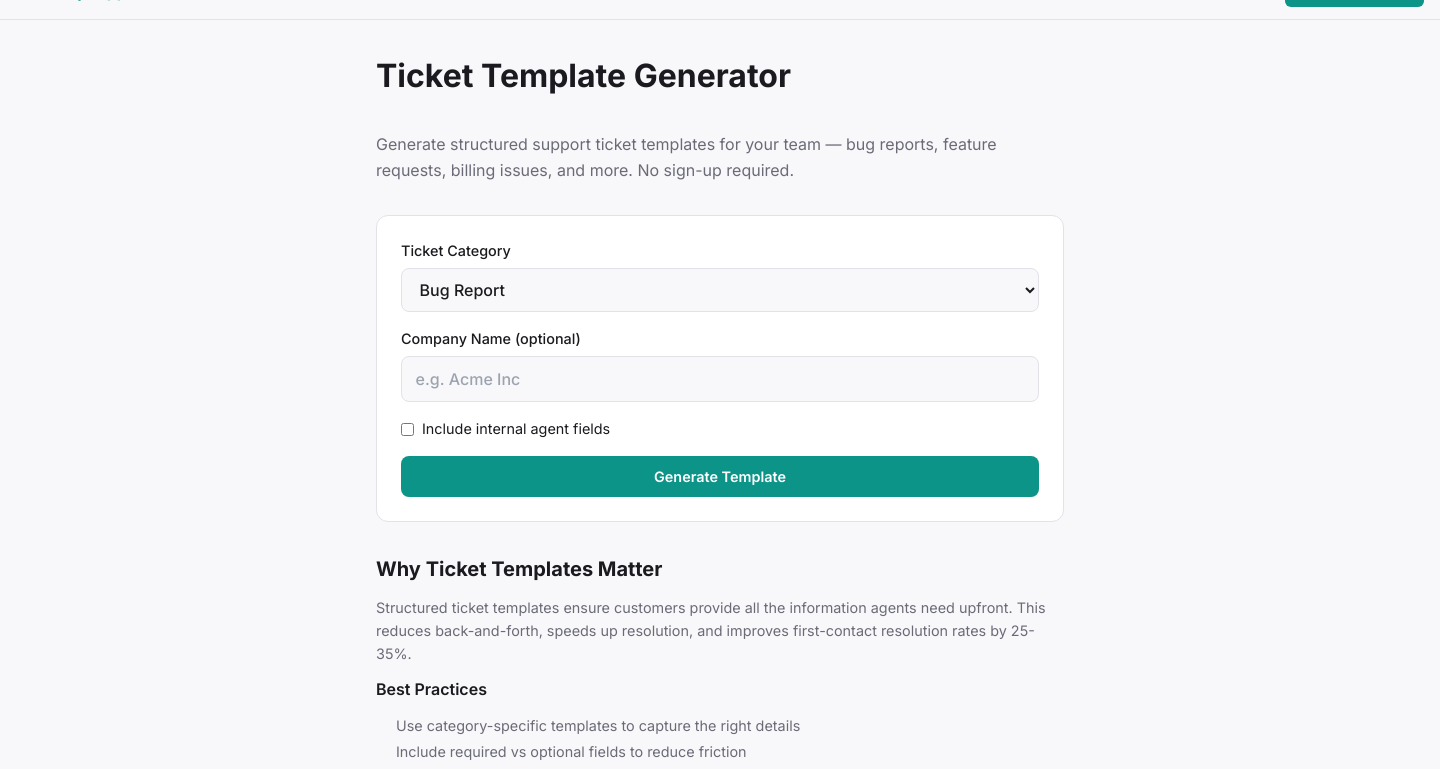
Test: TicketTemplateGeneratorPage › generates a bug report template
The width and height of the screenshot is (1440, 769).
Click the button "Generate Template" at [720, 476], box [401,456,1039,497]
(page scrolled)
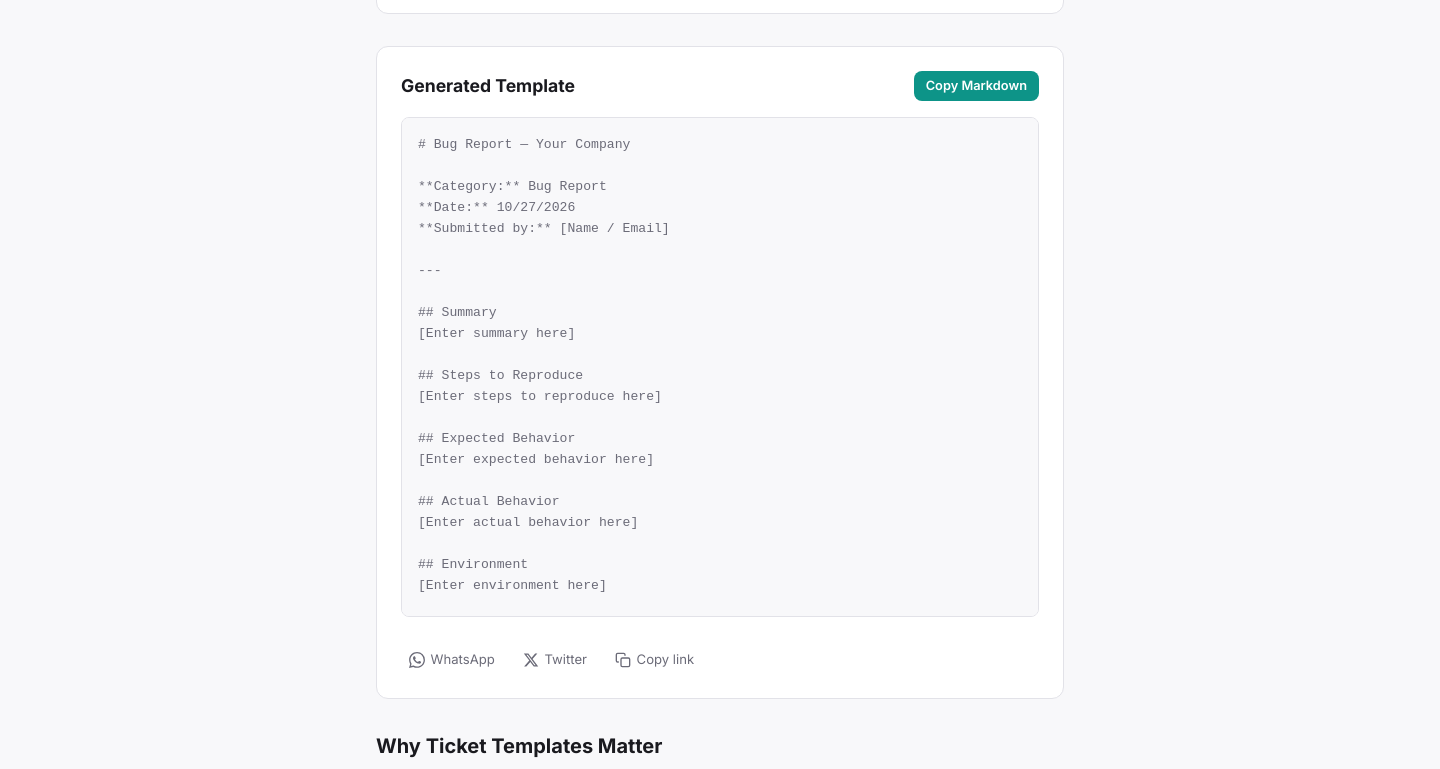
Expected: the heading "Generated Template" is shown, [401,73,575,99]
